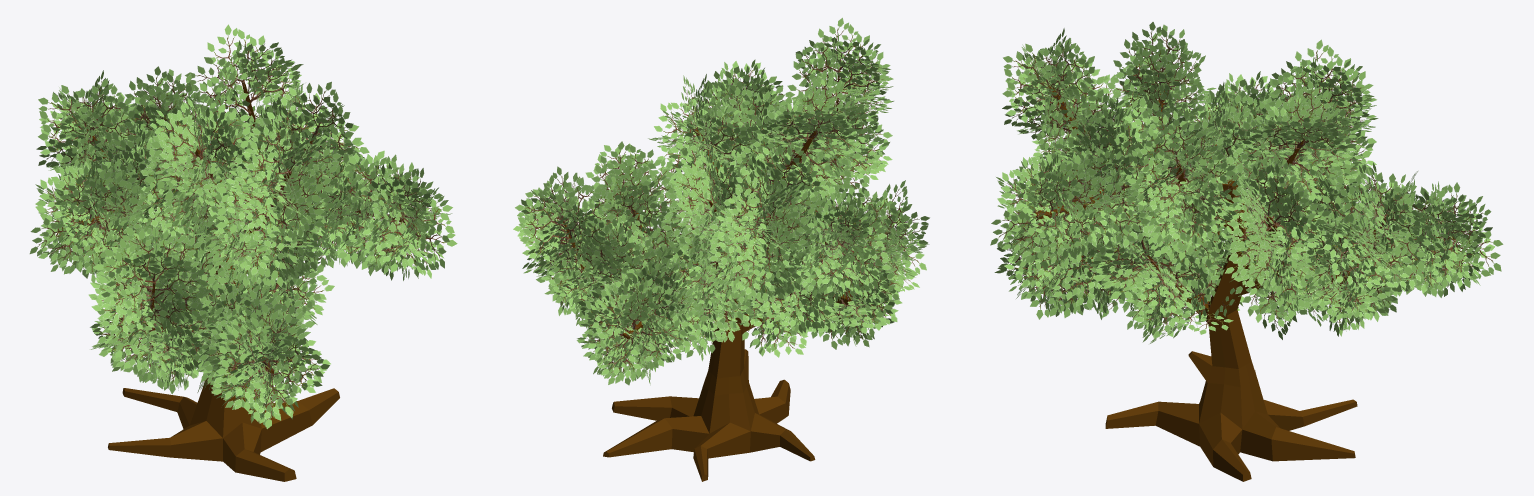
The model's file is Tree_Green_02.fbx.
The picture shows the model from 3 angles, left to right: view 1: azimuth 30°, elevation 25°; view 2: azimuth 150°, elevation 25°; view 3: azimuth 270°, elevation 25°; orthographic projection. The views are drawn at different scales.
Parts seen in each view (by area): view 1: TreeGreen_02; view 2: TreeGreen_02; view 3: TreeGreen_02.
Part boxes in pixels (x1,y1,x2,y2): TreeGreen_02: (29,24,457,481); TreeGreen_02: (513,17,929,481); TreeGreen_02: (990,22,1503,481).
Bounding box in the file's own units: 1344 × 1460 × 1814.
